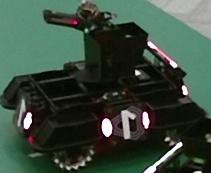armor_1: (102, 112, 149, 136)
